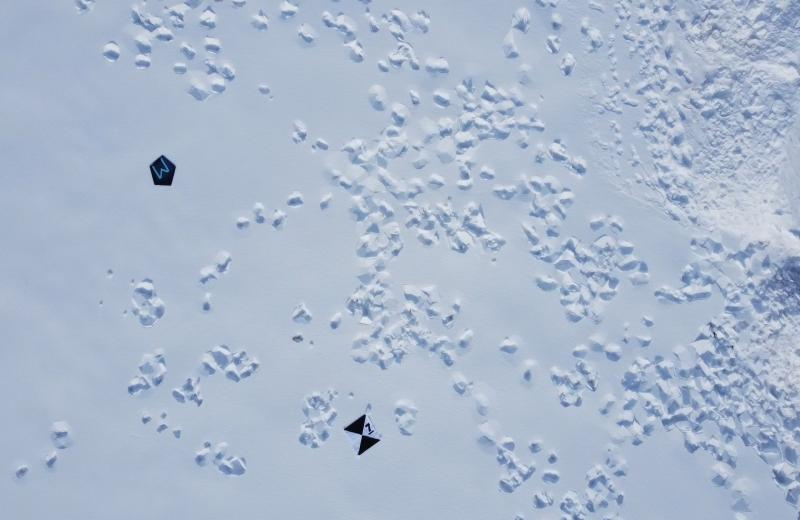Pentagon: (147, 151, 175, 185)
